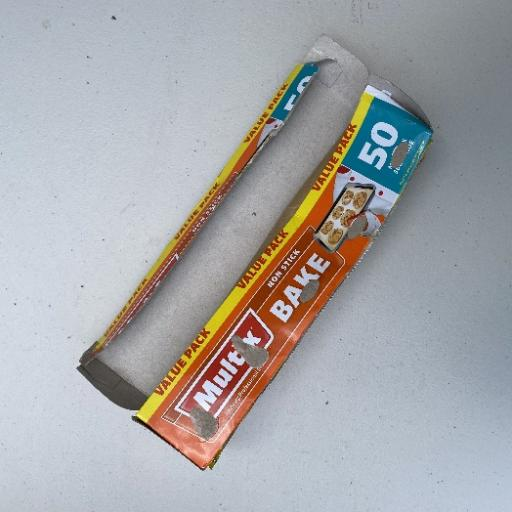Cardboard: (77, 33, 436, 471)
